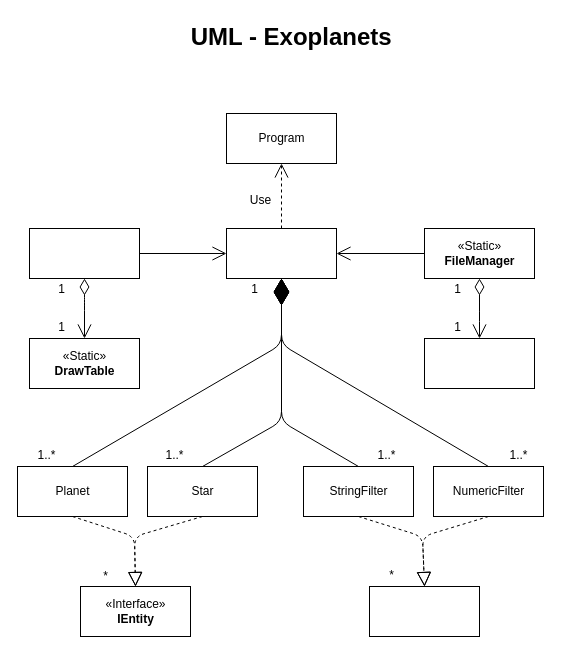
This 561x654 diagram has some shape labels left out. The shapes that lost their labels are listed below. From the top down, each one's box as (x1, y1, x2, y2) in pixels, then its label:
(28, 228, 140, 278): «Static» TableManager
(226, 228, 336, 278): MenuDrawer
(424, 338, 534, 388): «Static» EntityGenerator
(368, 586, 480, 636): «Interface» IFilter
